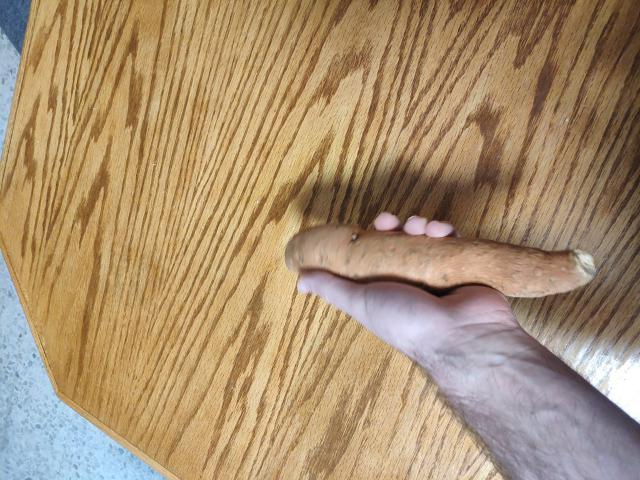sweet_potato: (282, 218, 603, 321)
